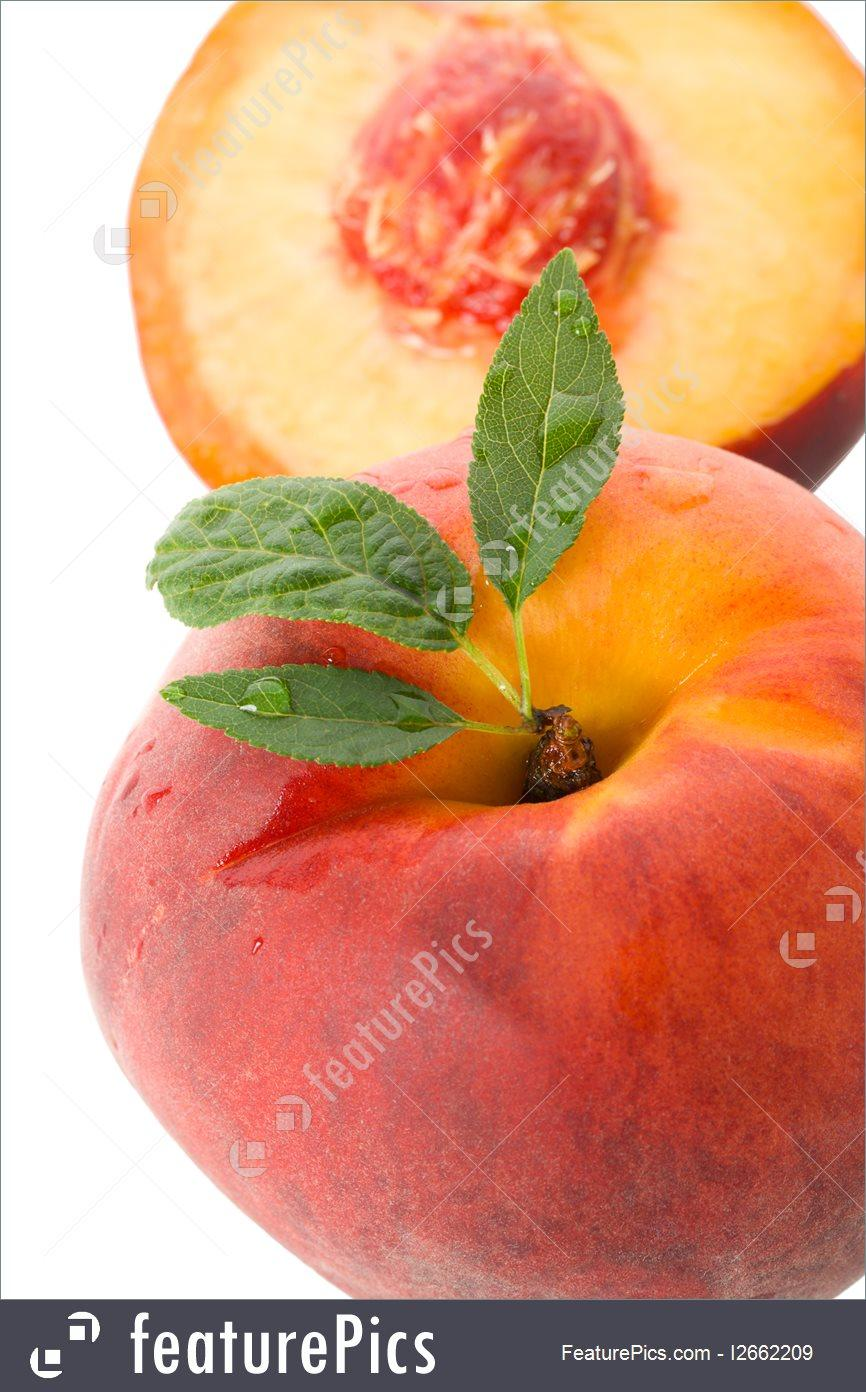Peach leaf: (116, 467, 488, 659), (475, 237, 629, 626), (153, 642, 461, 772)
